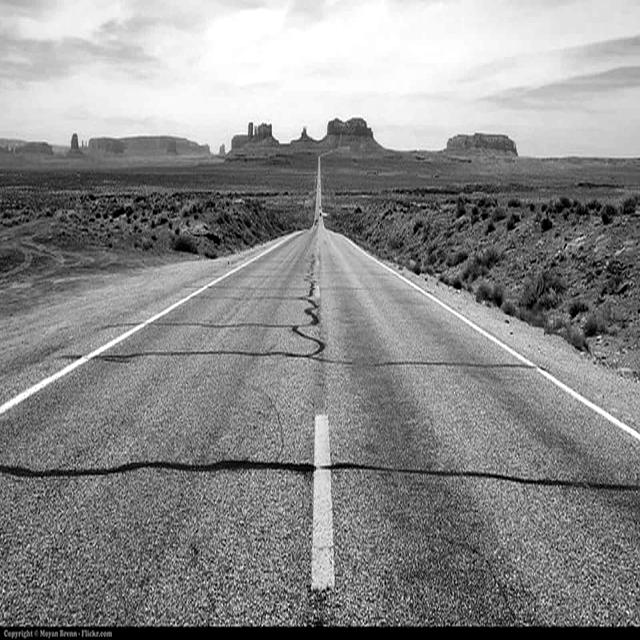cleat: (152, 114, 636, 640)
